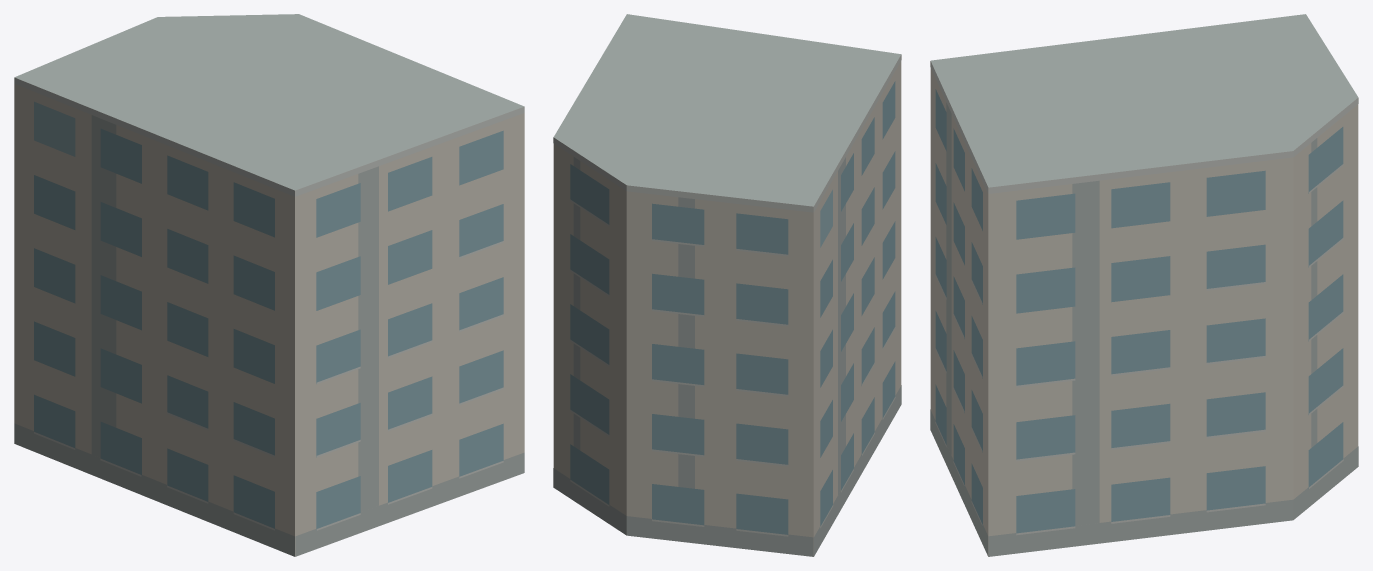
The model's file is survey-upis-32641304.glb.
The picture shows the model from 3 angles, left to right: view 1: azimuth 30°, elevation 25°; view 2: azimuth 150°, elevation 25°; view 3: azimuth 270°, elevation 25°; orthographic projection. The views are drawn at different scales.
Parts seen in each view (by area): view 1: survey-upis-32641304.tmp; view 2: survey-upis-32641304.tmp; view 3: survey-upis-32641304.tmp.
Part boxes in pixels (x1,y1,x2,y2): survey-upis-32641304.tmp: (14, 14, 524, 556); survey-upis-32641304.tmp: (553, 14, 901, 556); survey-upis-32641304.tmp: (930, 14, 1358, 556).
Bounding box in the file's own units: 14.23 × 14.1 × 14.82.
